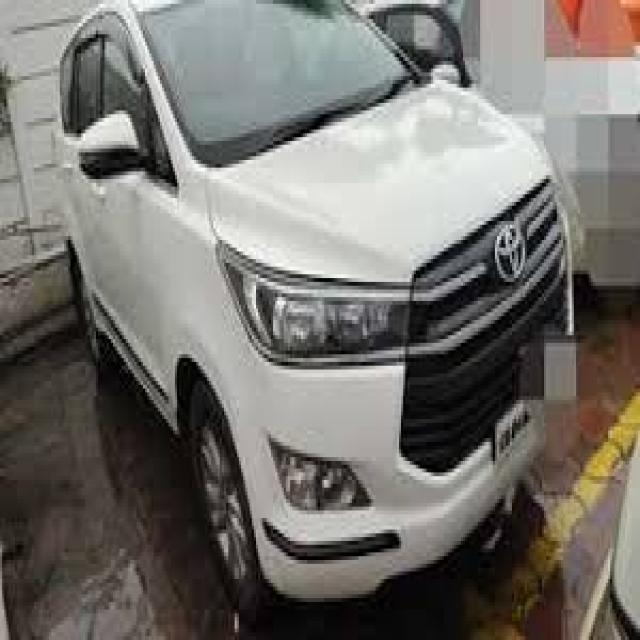light_vehicle: (57, 0, 575, 605)
